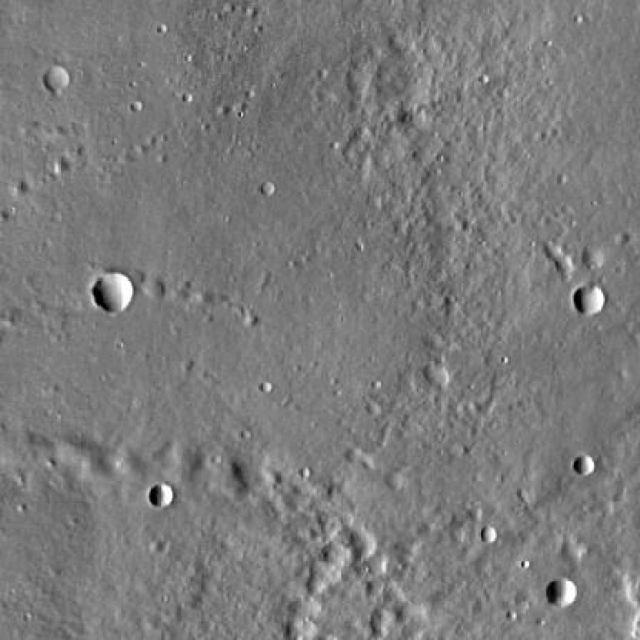crater: (92, 270, 136, 313), (546, 576, 580, 610), (573, 286, 602, 316), (322, 539, 350, 567), (302, 592, 330, 619), (42, 66, 68, 92), (428, 362, 452, 387), (149, 484, 174, 507), (584, 247, 607, 270), (355, 536, 379, 558), (294, 618, 318, 640), (574, 455, 595, 477), (318, 575, 337, 593), (260, 182, 277, 198), (482, 528, 498, 542)
